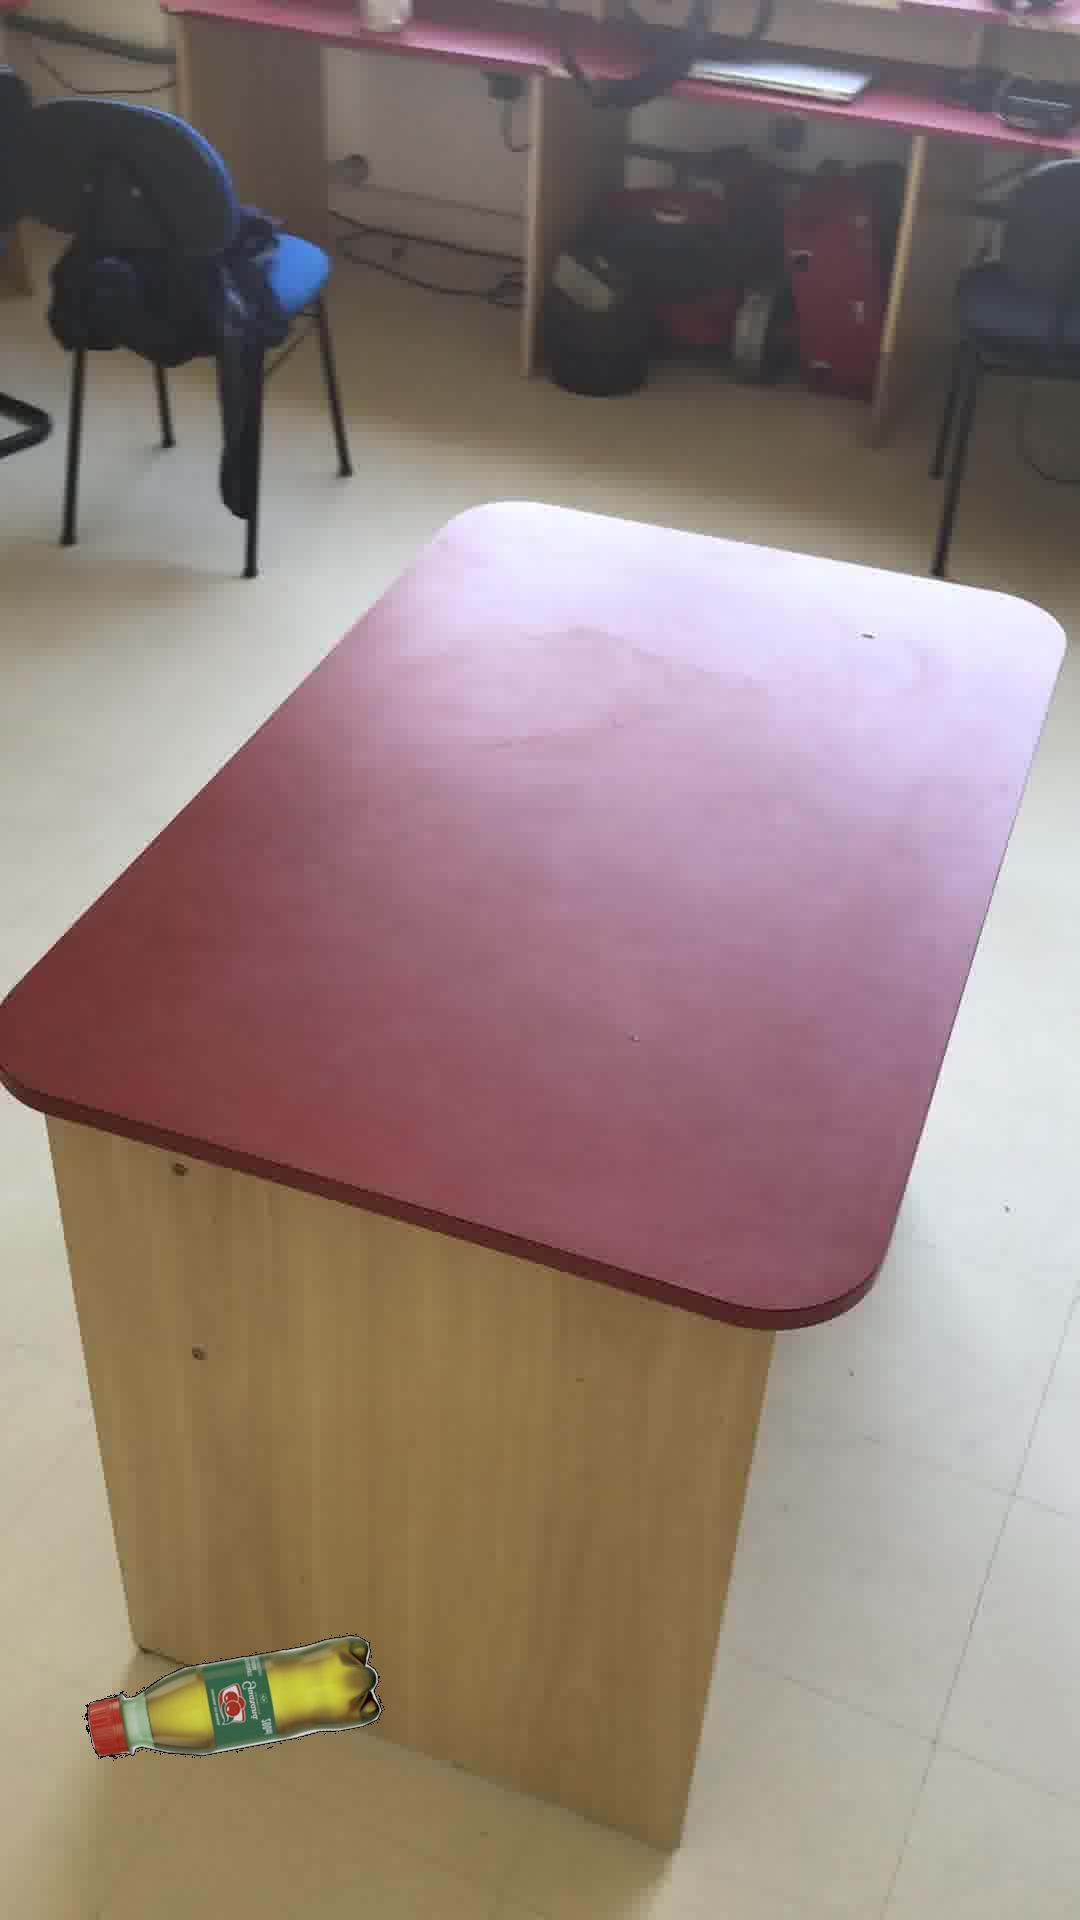guarana: (83, 1634, 381, 1758)
